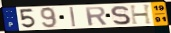5: (19, 8, 37, 29)
9: (40, 6, 59, 29)
H: (129, 4, 154, 25)
I: (69, 7, 77, 28)
R: (84, 6, 109, 27)
S: (110, 5, 132, 26)
